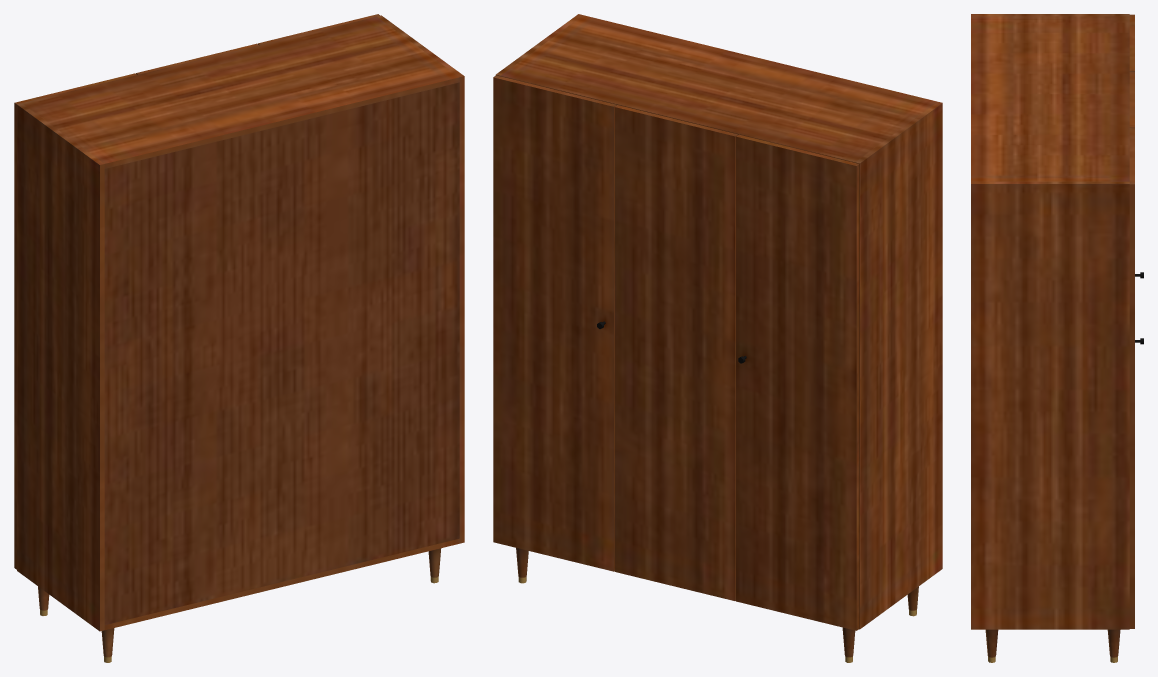
Rendered from wardrobe_3door_lod1_web.glb.
3 views of the same model, side by side, from view 1: azimuth 30°, elevation 25°; view 2: azimuth 150°, elevation 25°; view 3: azimuth 270°, elevation 25° (orthographic). The views are drawn at different scales.
Visible parts, largest first — view 1: Wardrobe3Door_Body, Door_1_3_Mesh; view 2: Wardrobe3Door_Body, Door_1_3_Mesh, Door_1_2_Mesh, Door_1_1_Mesh; view 3: Wardrobe3Door_Body, Door_1_1_Mesh, Door_1_3_Mesh, Door_1_2_Mesh.
Boxes of the visible parts, x1,y1,x2,y2 form: Wardrobe3Door_Body: (17,15,464,657); Door_1_3_Mesh: (14,73,136,569); Wardrobe3Door_Body: (496,14,942,657); Door_1_3_Mesh: (736,134,859,630); Door_1_2_Mesh: (614,105,737,600); Door_1_1_Mesh: (493,75,616,571); Wardrobe3Door_Body: (971,14,1129,657); Door_1_1_Mesh: (1129,128,1134,628); Door_1_3_Mesh: (1129,14,1134,71); Door_1_2_Mesh: (1129,71,1134,127).
Bounding box in the file's own units: 1.35 × 1.8 × 0.58.
Materials: 3 (3 with a texture image).
